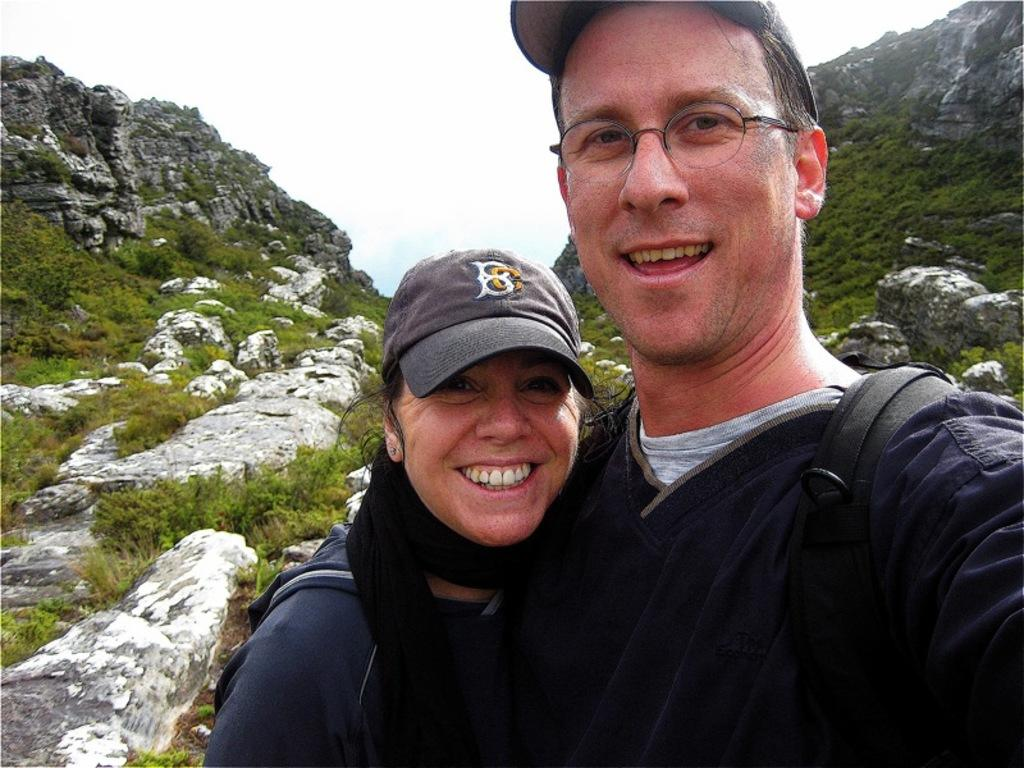Hat: (388, 245, 596, 405)
